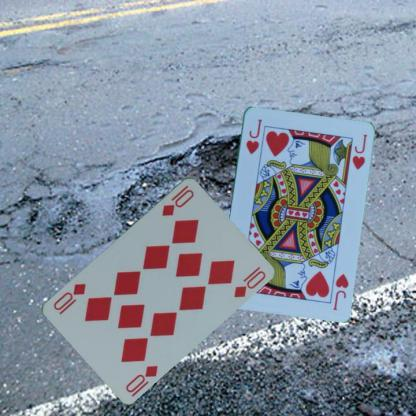10d: (159, 182, 195, 217), (122, 362, 160, 394)
Jh: (330, 271, 350, 311), (243, 116, 263, 155)
